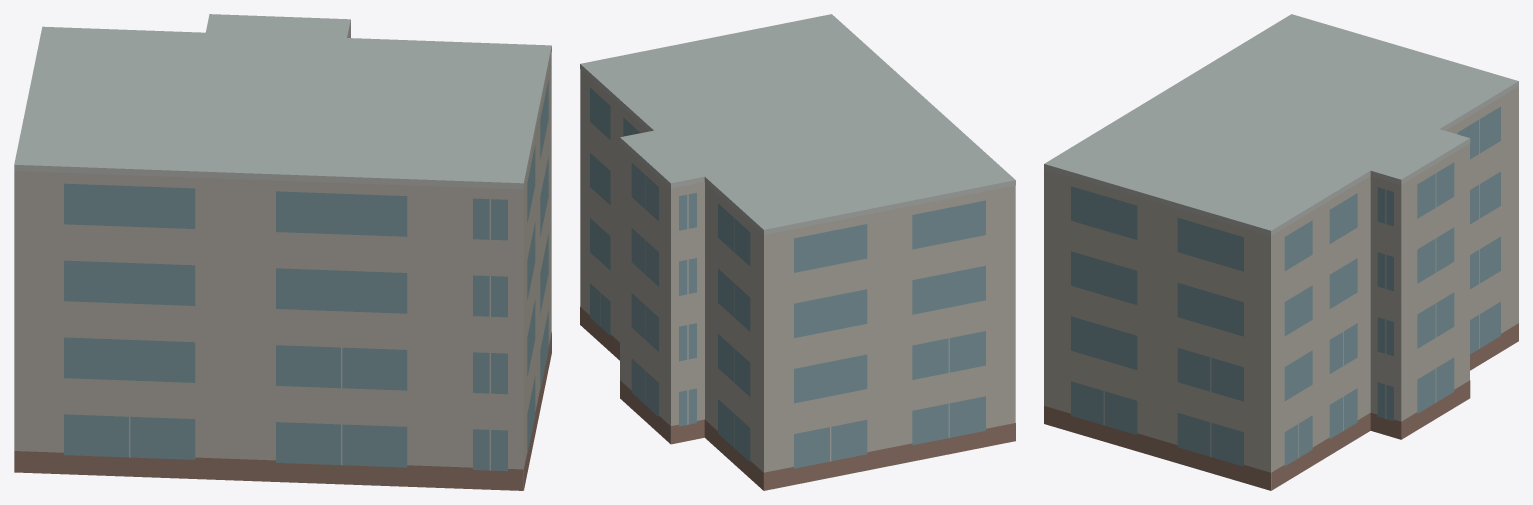
The model's file is residential-d4564dcc-a6d6-4fd3-8e1f-797c80a385cc.glb.
3 views of the same model, side by side, from view 1: azimuth 30°, elevation 25°; view 2: azimuth 150°, elevation 25°; view 3: azimuth 270°, elevation 25° (orthographic). The views are drawn at different scales.
Parts seen in each view (by area): view 1: residential-d4564dcc-a6d6-4fd3-8e1f-797c80a385cc.tmp; view 2: residential-d4564dcc-a6d6-4fd3-8e1f-797c80a385cc.tmp; view 3: residential-d4564dcc-a6d6-4fd3-8e1f-797c80a385cc.tmp.
Boxes of the visible parts, bbox=[...] form: residential-d4564dcc-a6d6-4fd3-8e1f-797c80a385cc.tmp: bbox=[14, 14, 551, 490]; residential-d4564dcc-a6d6-4fd3-8e1f-797c80a385cc.tmp: bbox=[580, 14, 1015, 490]; residential-d4564dcc-a6d6-4fd3-8e1f-797c80a385cc.tmp: bbox=[1044, 14, 1518, 490].
Size of the model in its own units: 21.82 by 12.2 by 20.19.
